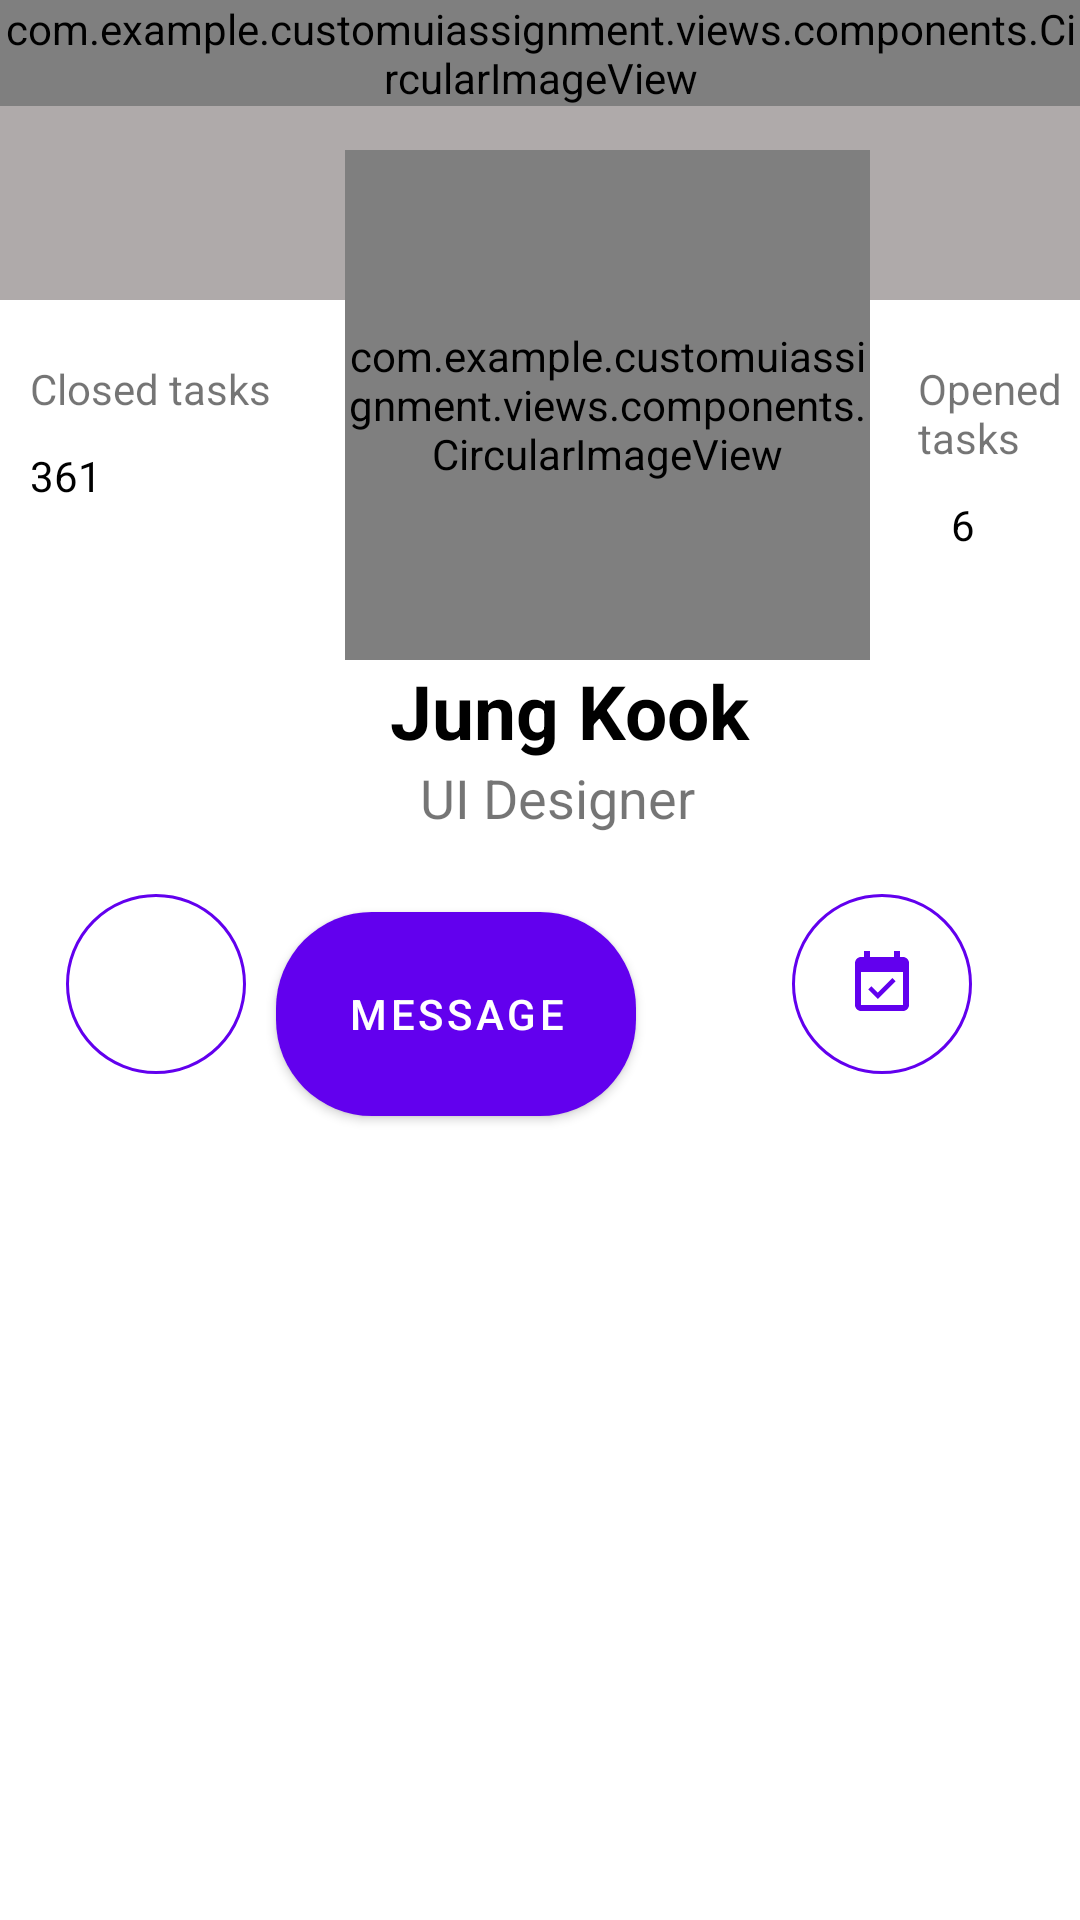

Named icons in this screenshot (1080*1920) and their centers, (x=x, y=y):
event available: (x=882, y=984)
